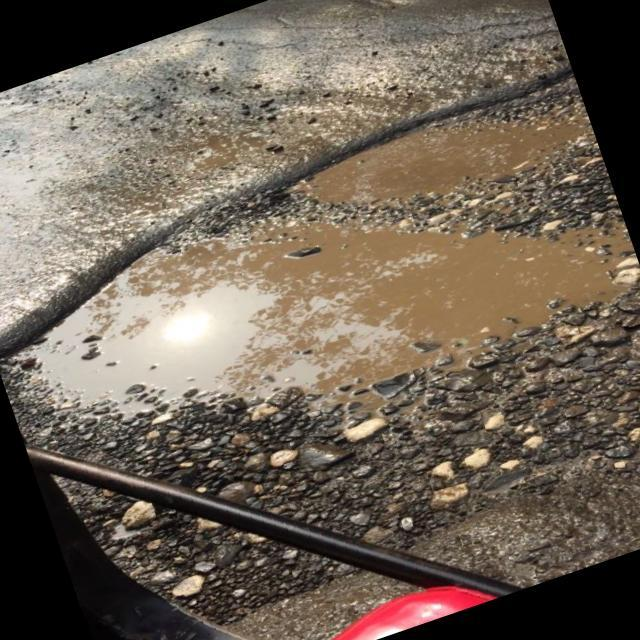Pothole: (0, 51, 640, 545)
